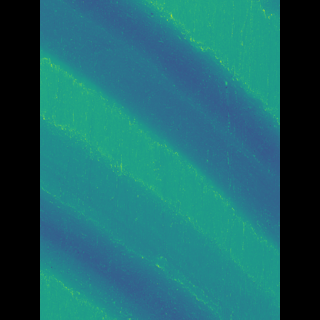Loch: (69, 0, 251, 254), (68, 182, 209, 319)
